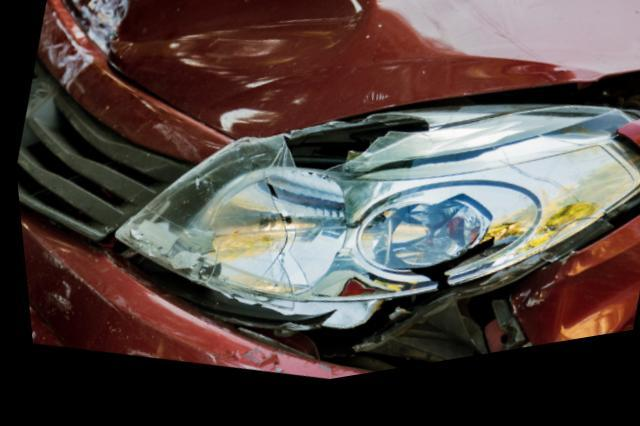dent: (61, 0, 355, 81)
lamp broken: (106, 118, 640, 341)
scratch: (36, 0, 98, 92)
